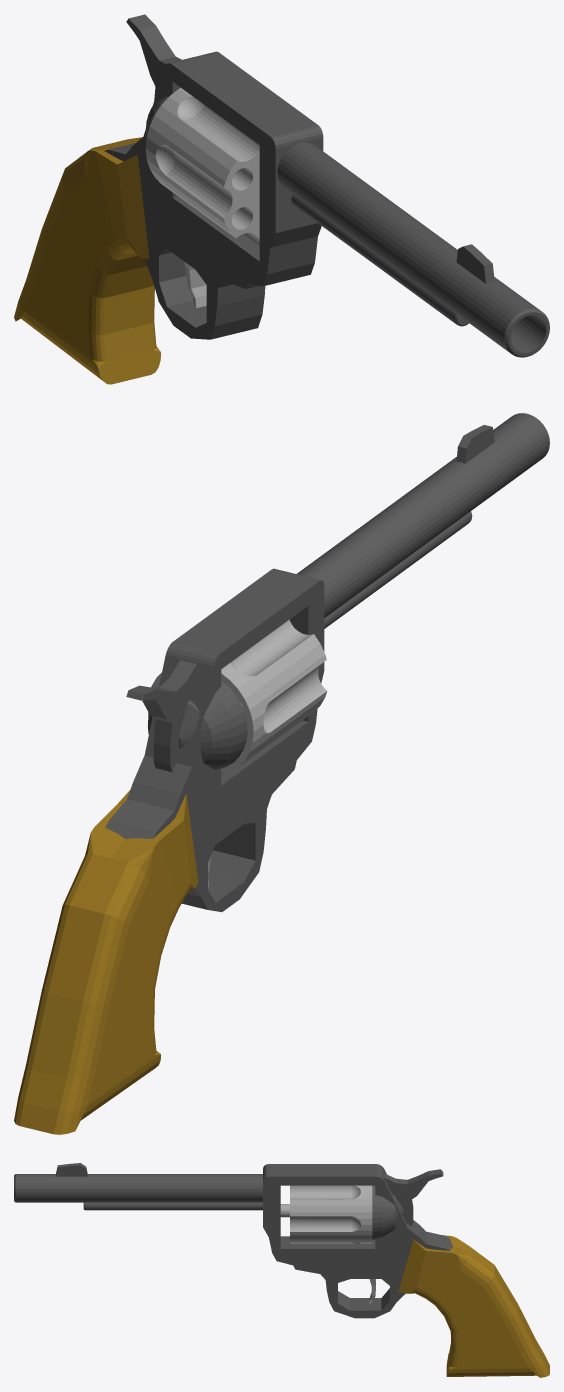
File: gun1800.fbx
3 renders of one model, top to bottom at view 1: azimuth 30°, elevation 25°; view 2: azimuth 150°, elevation 25°; view 3: azimuth 270°, elevation 25°, orthographic. The views are drawn at different scales.
Visible parts, largest first — view 1: Cube.003; view 2: Cube.003; view 3: Cube.003.
Part boxes in pixels (left/top/right/bottom): Cube.003: left=14, top=14, right=549, bottom=384; Cube.003: left=14, top=413, right=549, bottom=1134; Cube.003: left=14, top=1163, right=549, bottom=1377.
Size of the model in its own units: 80.06 by 274 by 643.
